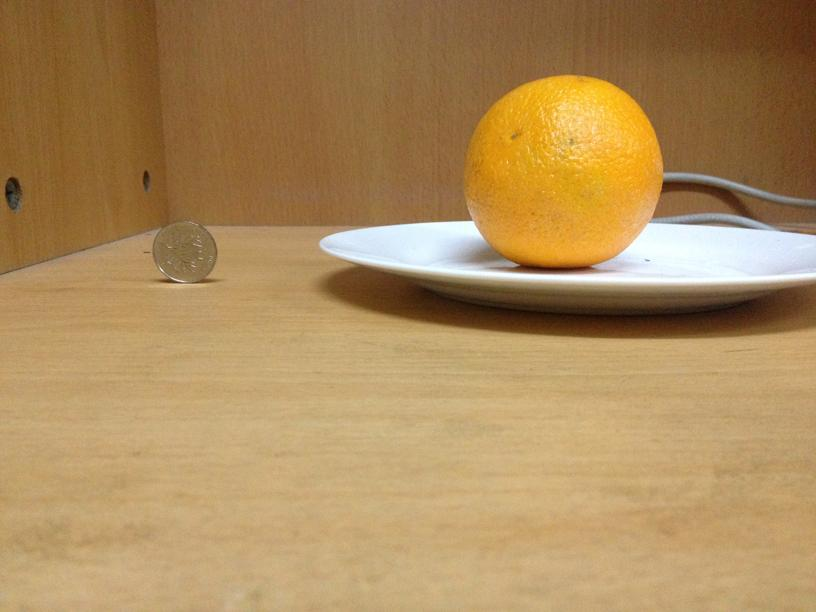coin: (151, 219, 217, 284)
orange: (467, 74, 661, 266)
